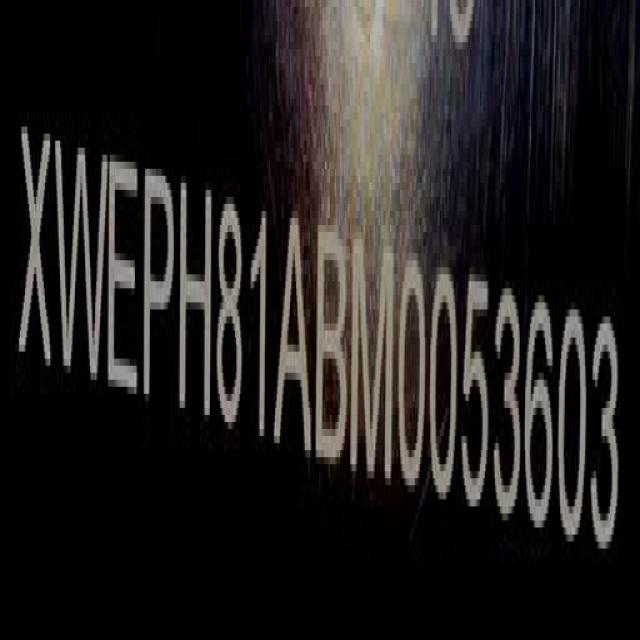0: (398, 246, 428, 499), (558, 299, 586, 545), (432, 257, 458, 510)
1: (250, 201, 270, 452)
3: (594, 310, 624, 558), (496, 279, 523, 527)
5: (463, 266, 491, 518)
6: (525, 289, 556, 531)
8: (216, 189, 244, 441)
A: (277, 208, 315, 462)
B: (318, 224, 350, 474)
E: (108, 146, 142, 411)
H: (180, 168, 214, 430)
M: (353, 225, 394, 491)
P: (142, 160, 176, 424)
W: (54, 122, 108, 400)
X: (16, 111, 54, 385)
